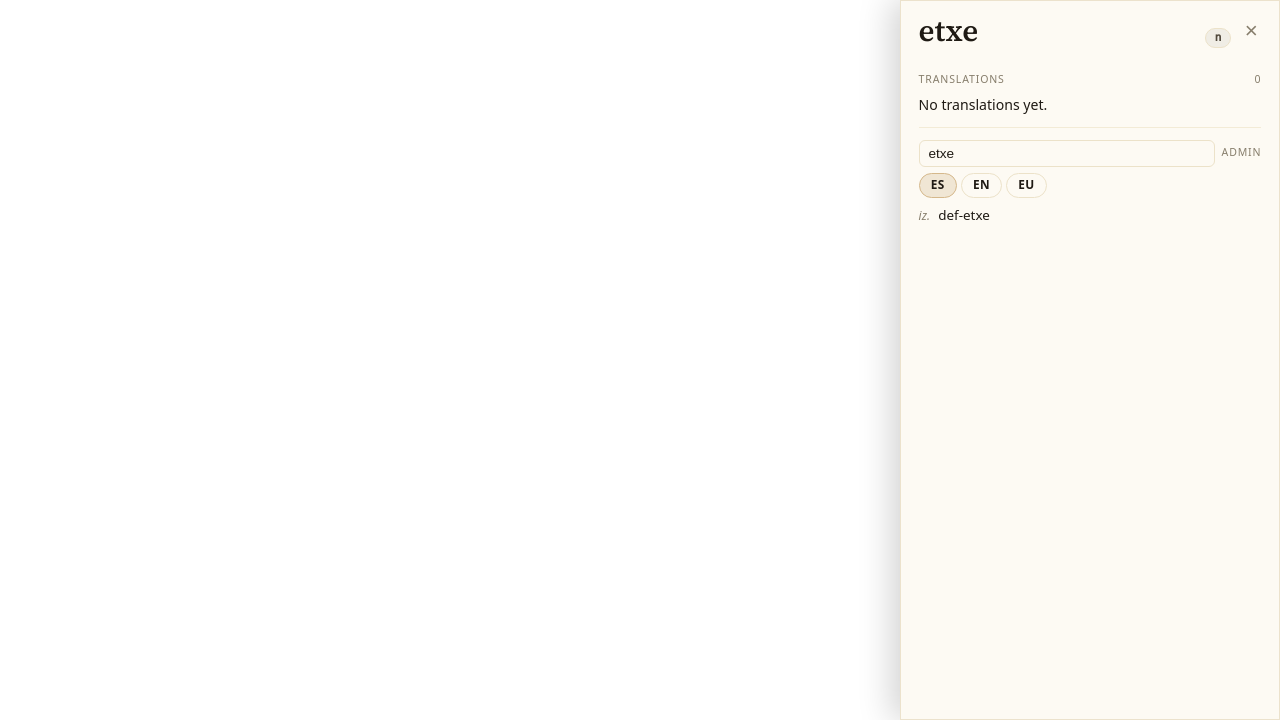
Test: WordPopup — admin Basque reference panel › keeps a manual reference search and does not snap back to the parsed headword
The width and height of the screenshot is (1280, 720).
Expected: the element with test id "admin-ref" shows "def-etxe", [938, 206, 990, 224]
Replace the text in the search field with test id "ref-search" with "pena": (1067, 153) [919, 140, 1215, 167]
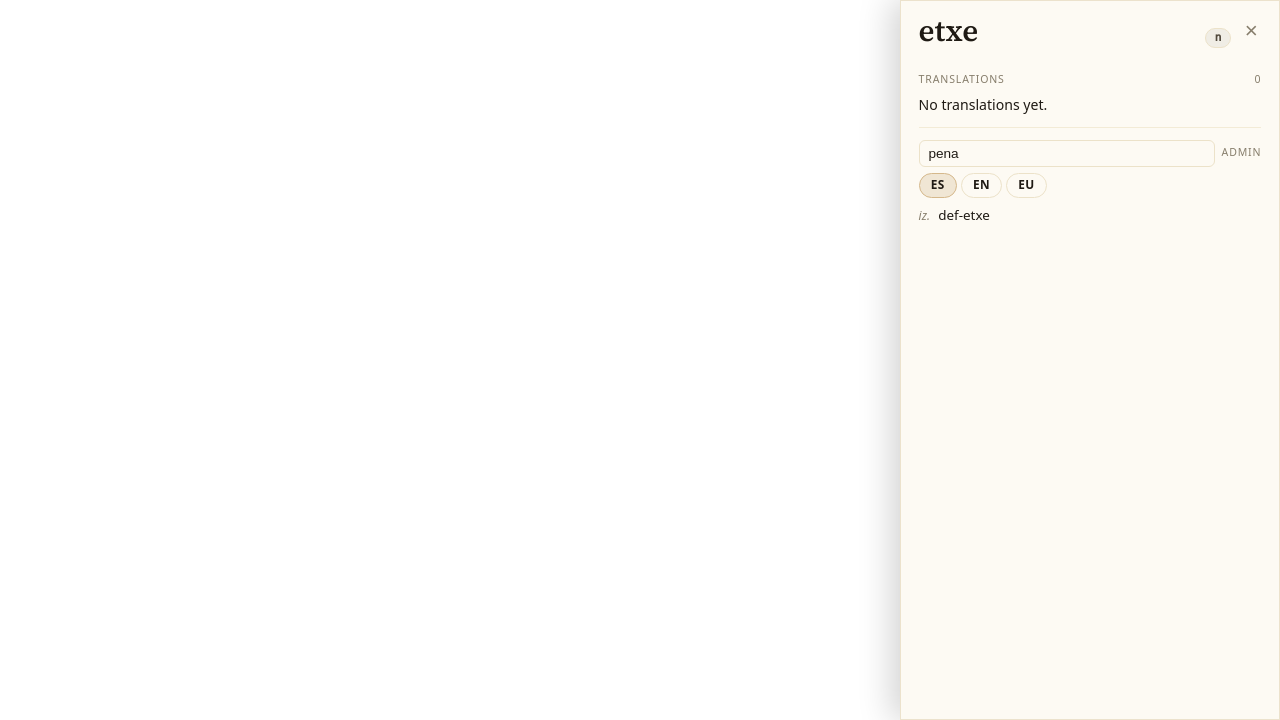
Press Enter in the search field with test id "ref-search", box [919, 140, 1215, 167]
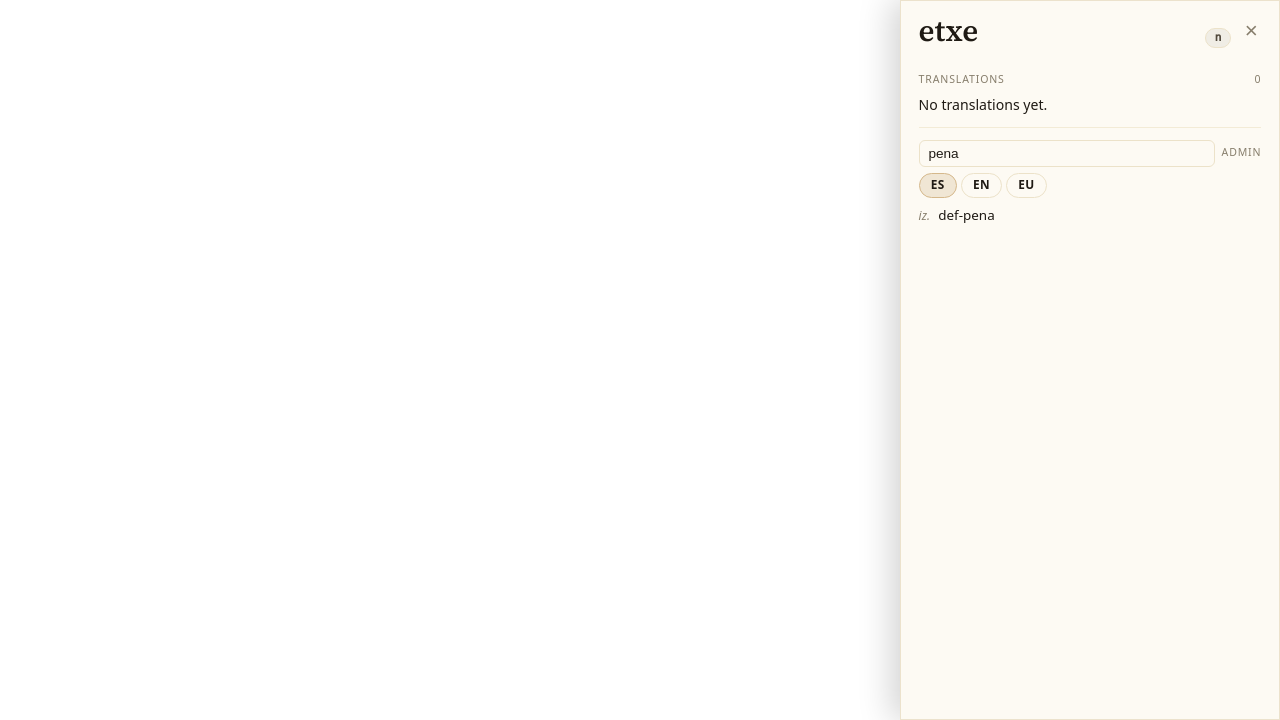
Result: the element with test id "admin-ref" shows "def-pena" at [938, 206, 995, 224]
Result: the text with test id "admin-ref" no longer shows "def-etxe"
